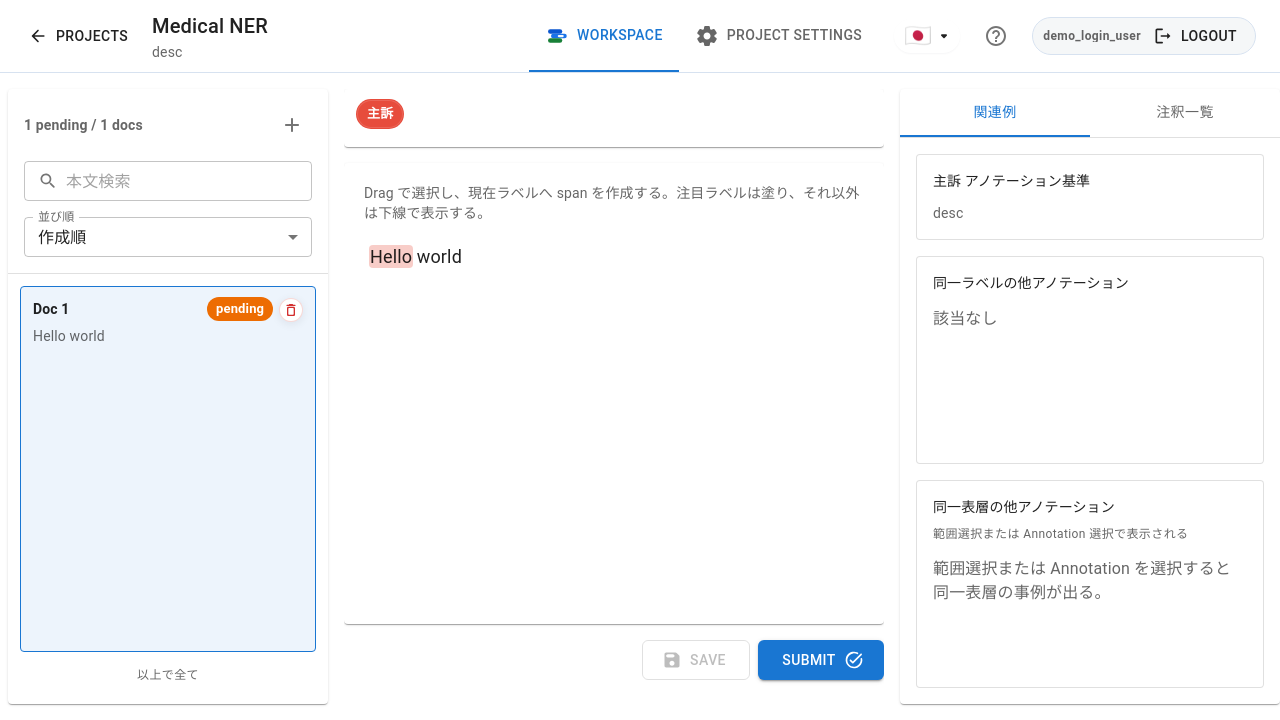
it: ProjectShell pending changes navigation guard › keeps the confirmation dialog open when saving before navigation fails
Expected: the text "1 pending / 1 docs" is shown, [24, 115, 143, 135]
Click the tab "注釈一覧": {"x": 1185, "y": 113} [1090, 89, 1279, 137]
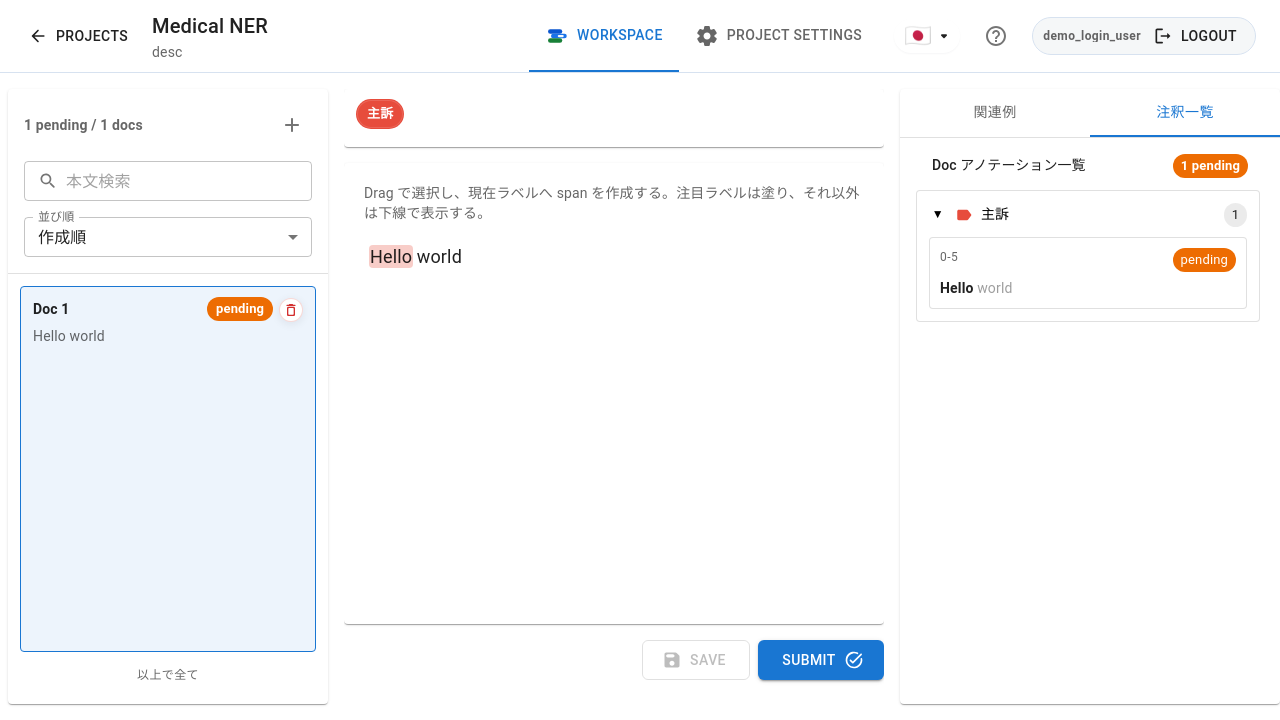
Click the text "0-5": {"x": 949, "y": 257} [940, 250, 958, 264]
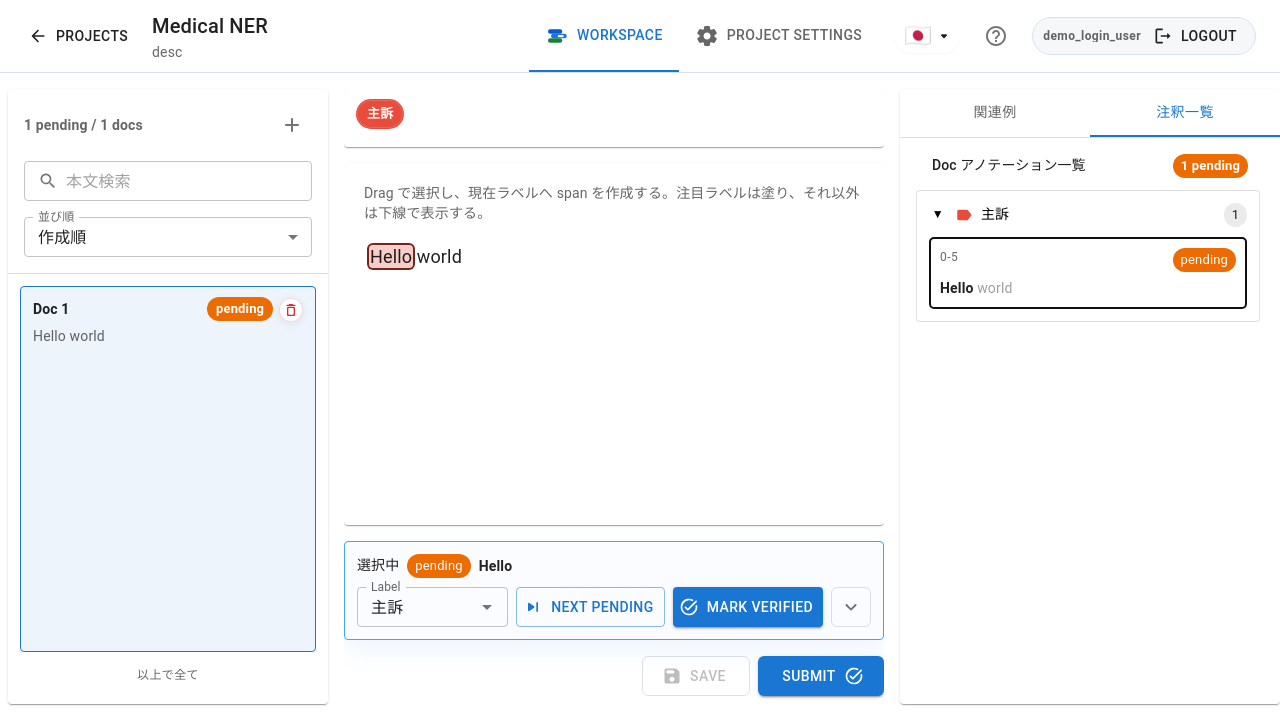
Click the button named "Annotation details": {"x": 851, "y": 607} [831, 587, 871, 627]
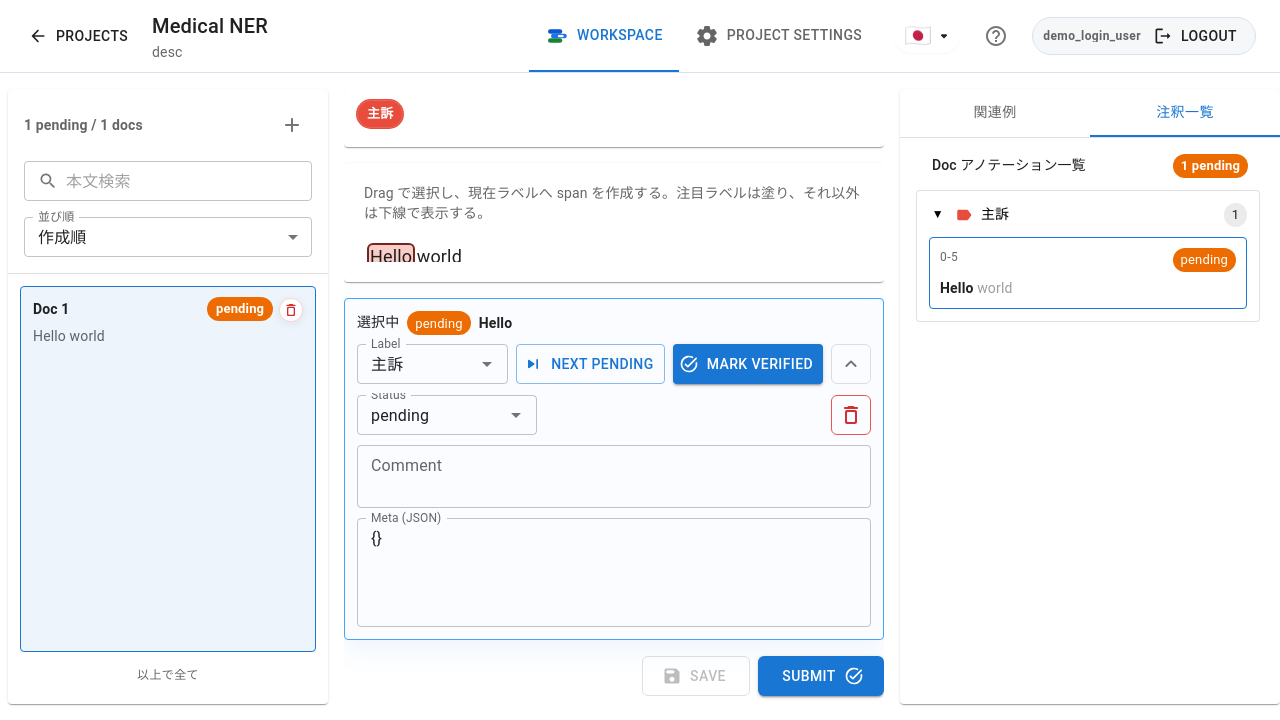
In the text box labelled "Comment": {"x": 614, "y": 476} [371, 454, 857, 500], type "dirty comment"
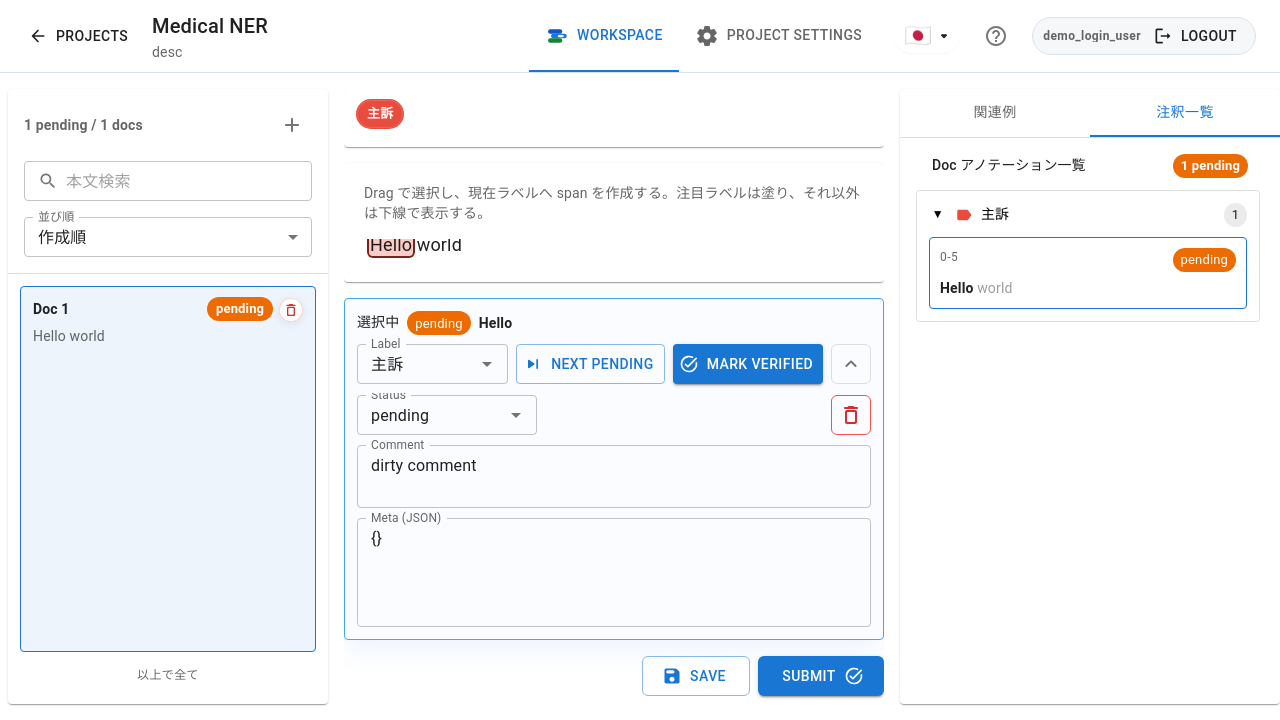
Click the button "Projects": {"x": 80, "y": 36} [24, 18, 136, 54]
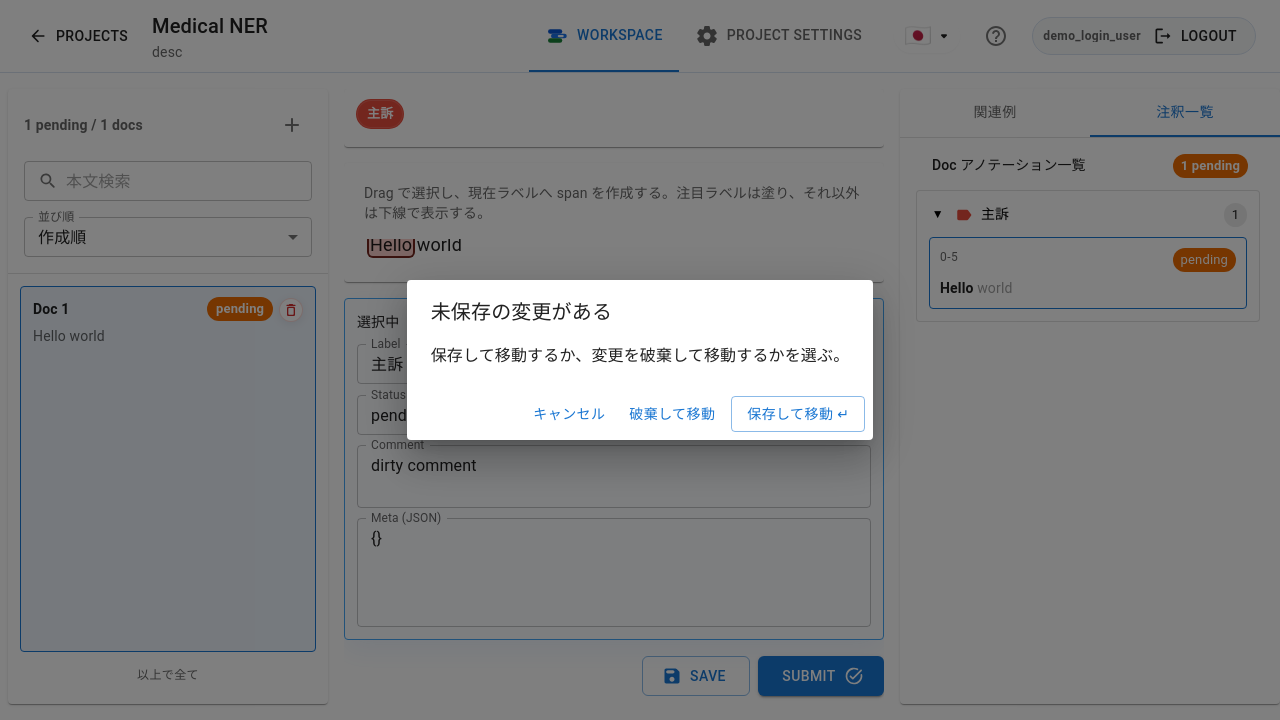
Click the button "保存して移動 ↵": {"x": 798, "y": 414} [731, 396, 865, 432]
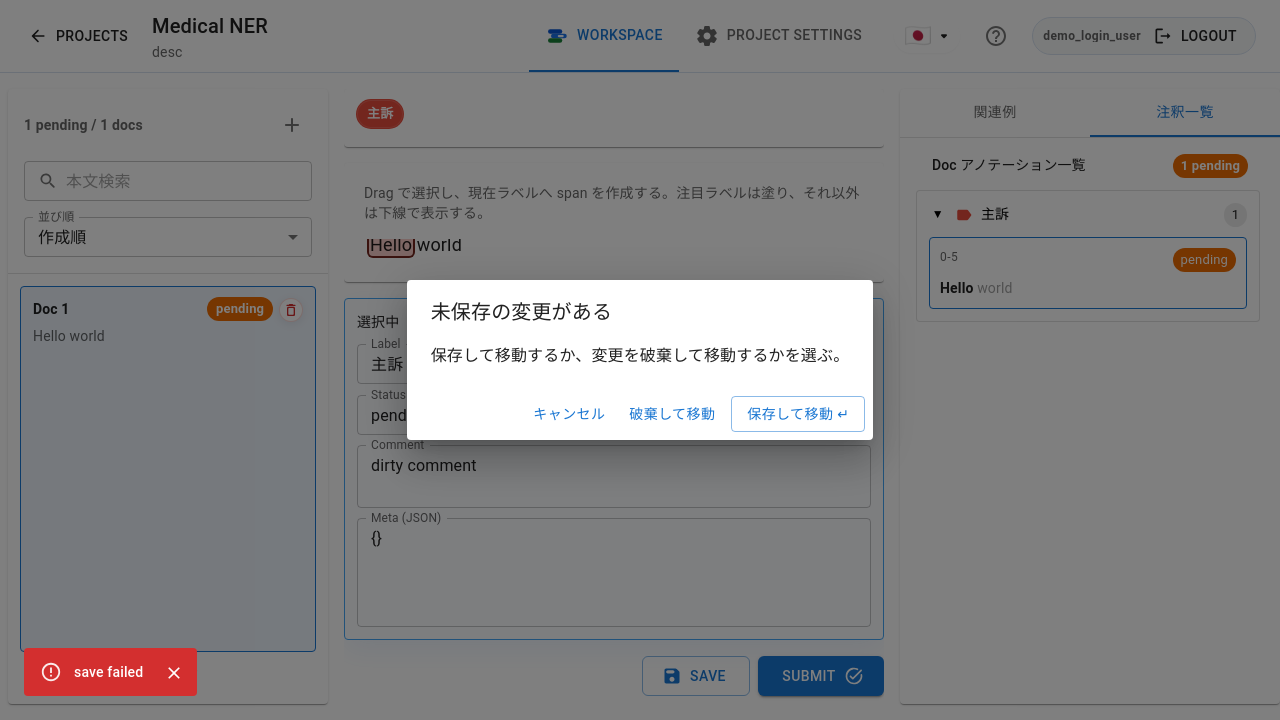
Now the dialog "未保存の変更がある" is shown, box [407, 280, 873, 440]
Now the text "save failed" is shown, box [74, 664, 143, 680]
